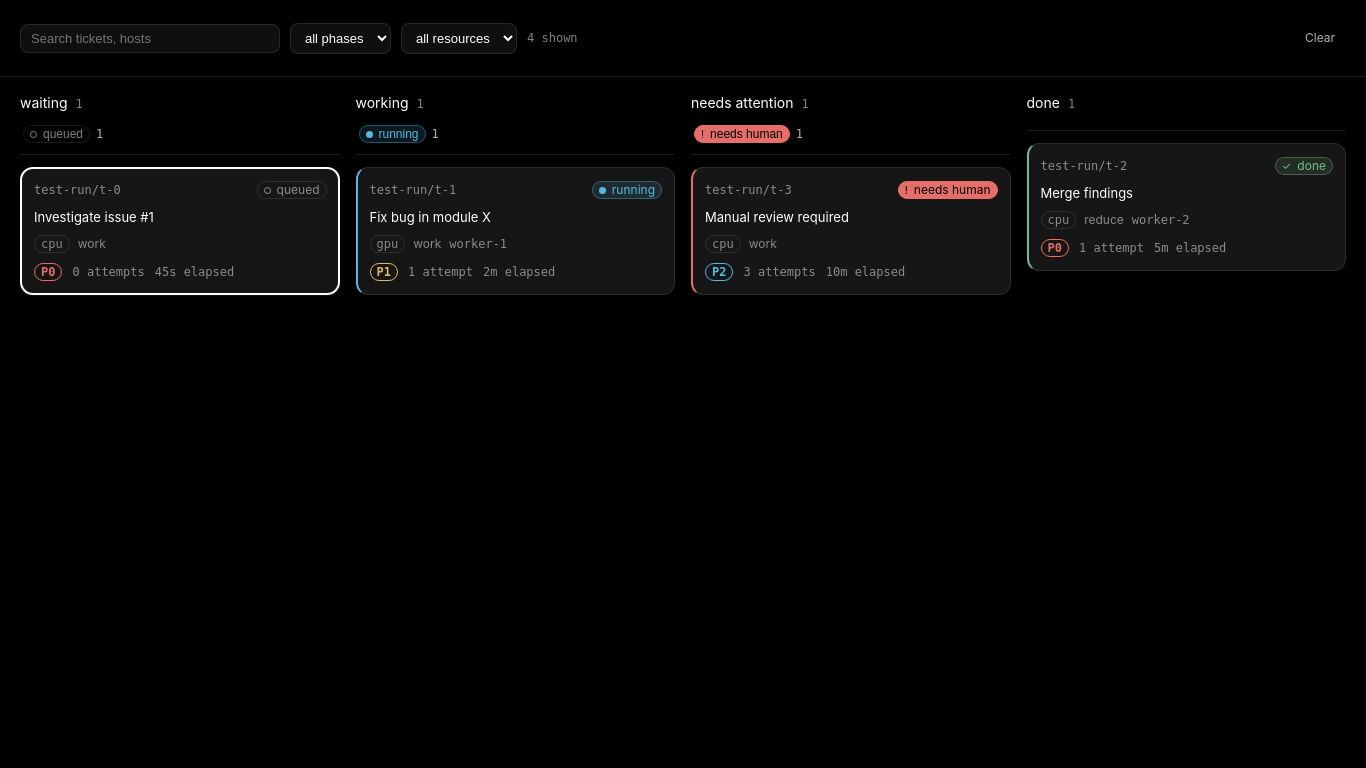
TicketBoard — the open ticket is in the route › closing the ticket window returns focus to its card
Click the text "Investigate issue #1". click: [180, 231]
box: [20,167,340,295]
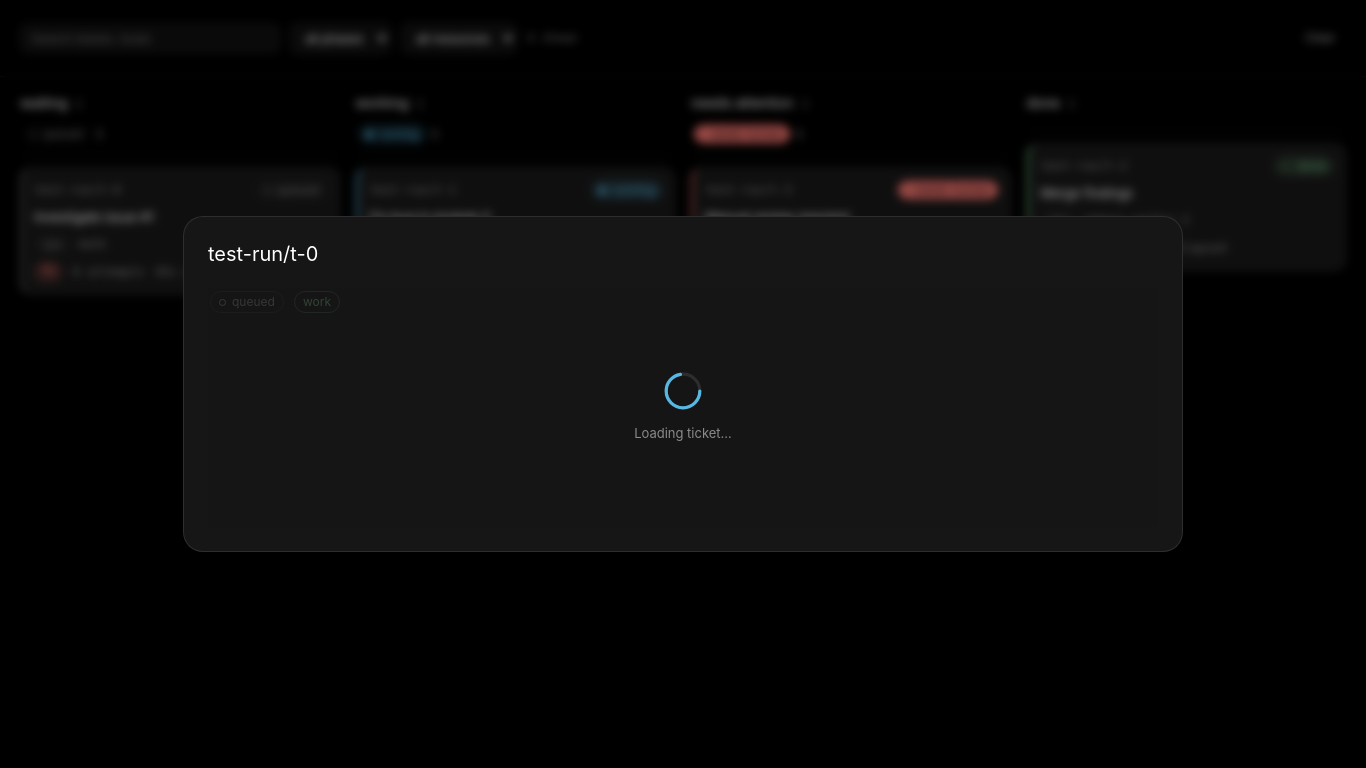
Now the dialog shows "test-run/t-0", box [208,242,318,266]
Click the dialog. click: [82, 384]
box: [0,0,1365,767]
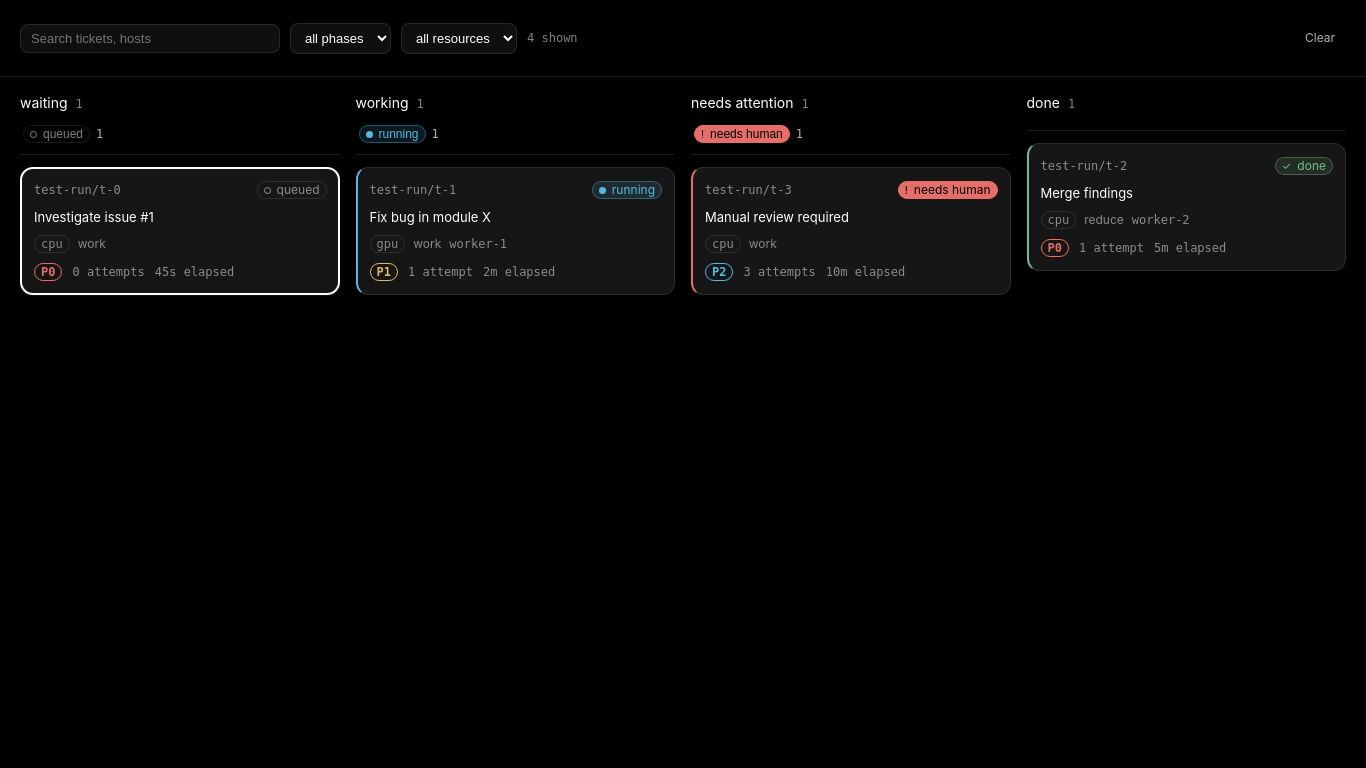
Now the dialog is gone
